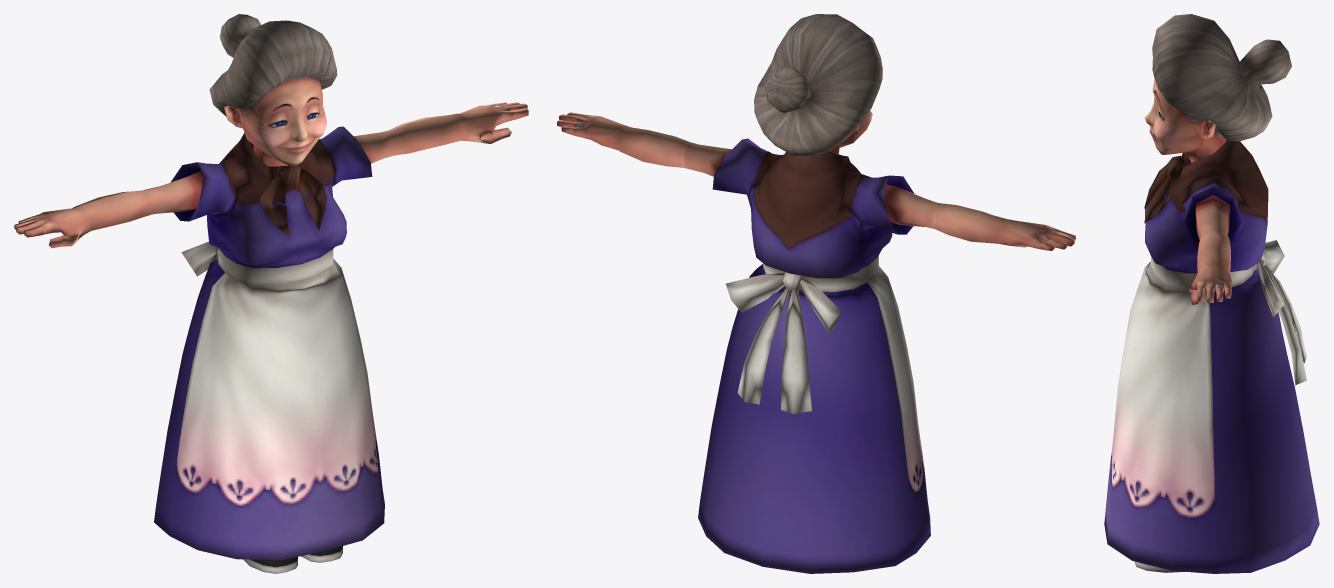
Rendered from Grandma.fbx.
The picture shows the model from 3 angles, left to right: view 1: azimuth 30°, elevation 25°; view 2: azimuth 150°, elevation 25°; view 3: azimuth 270°, elevation 25°; orthographic projection.
Visible parts, largest first — view 1: Object_10, Object_12, Object_8, Object_11, Object_14, Object_13; view 2: Object_8, Object_10, Object_12, Object_11, Object_13; view 3: Object_10, Object_8, Object_12, Object_11, Object_13, Object_14.
Boxes of the visible parts, box(x1,y1,x2,y2) form: Object_10: box(154, 162, 384, 559); Object_12: box(189, 126, 372, 268); Object_8: box(14, 102, 528, 248); Object_11: box(181, 20, 342, 573); Object_14: box(240, 75, 327, 165); Object_13: box(209, 14, 287, 166); Object_8: box(557, 112, 1075, 573); Object_10: box(698, 175, 930, 572); Object_12: box(712, 138, 897, 413); Object_11: box(726, 14, 882, 333); Object_13: box(754, 67, 862, 155); Object_10: box(1104, 186, 1284, 573); Object_8: box(1189, 195, 1319, 560); Object_12: box(1144, 140, 1306, 385); Object_11: box(1134, 14, 1284, 572); Object_13: box(1185, 39, 1291, 162); Object_14: box(1144, 79, 1200, 154).
Bounding box in the file's own units: 14851 × 14489 × 5322.
Materials: 6 (6 with a texture image).
